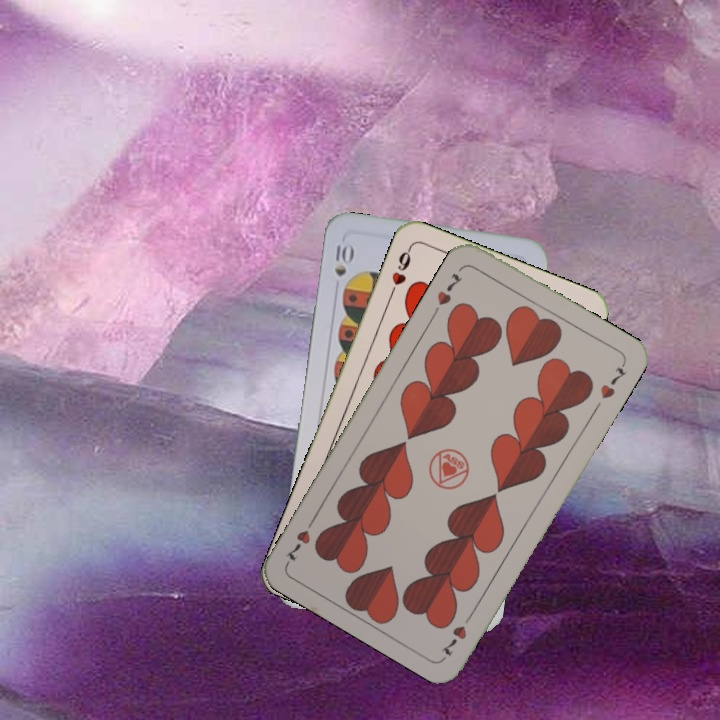H7: (437, 607, 477, 660), (430, 269, 465, 317)
H9: (385, 244, 414, 300)
S10: (331, 241, 354, 279)
